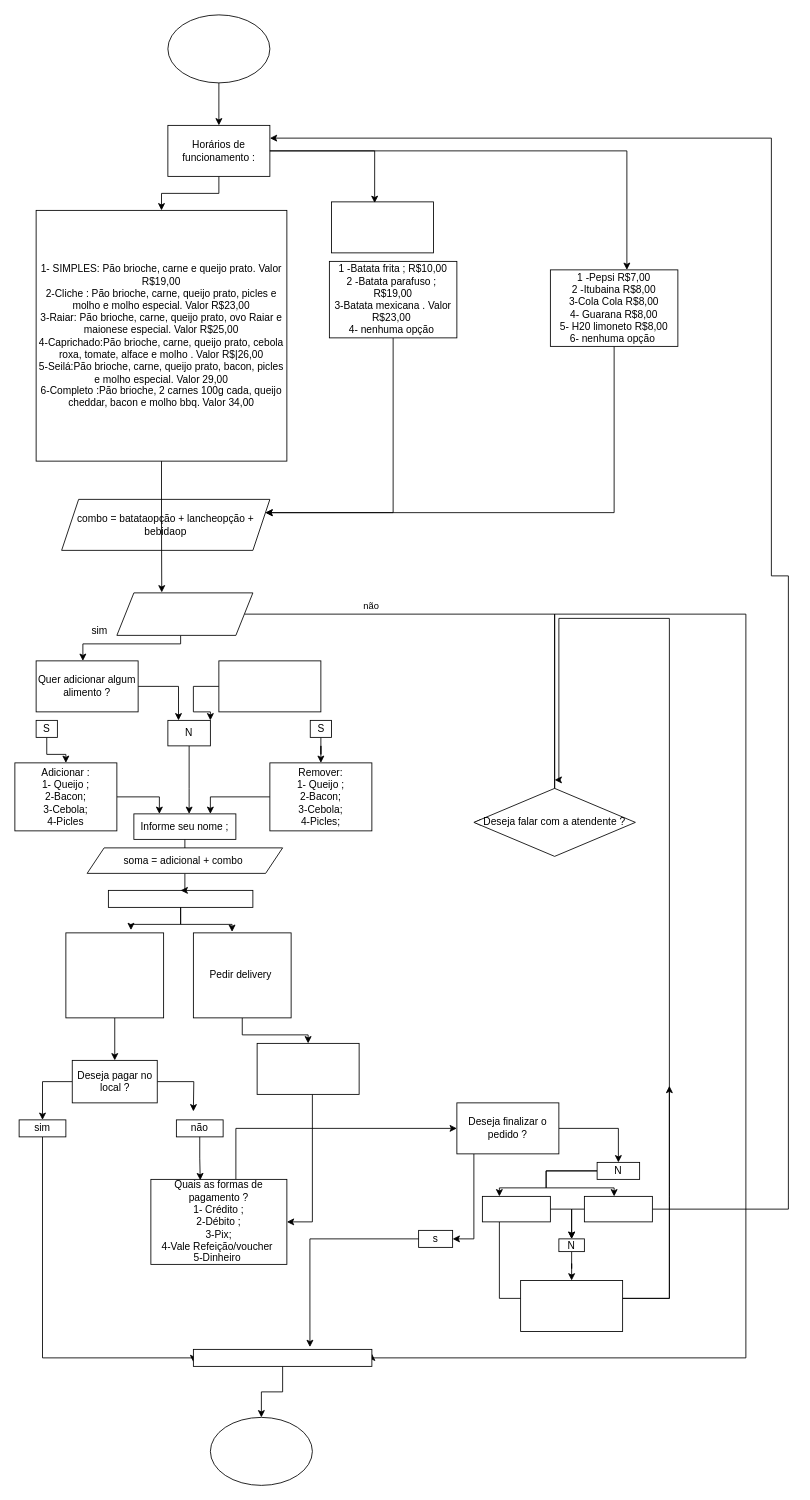
Some shapes in this 810 by 1500 pixel diagram are drawn without their labels. The shapes that lost their labels are listed below. From the top down, each one's centre as x and y in pixels, then its label:
At [218,48]: "O usuário envia uma mensagem".
At [382,227]: "Cada porção de batata contém 500g para 4 pessoas".
At [184,613]: "Deseja adicionar ou remover algum alimento do lanche?".
At [269,686]: "Deseja remover algum alimento".
At [180,898]: "O valor total é de %d , soma".
At [114,975]: "Retiirada na loja".
At [307,1068]: "Informe seu endereço , bairro ,número ;".
At [516,1209]: "Falar com a atendente".
At [618,1209]: "Reiniciar o pedido".
At [571,1306]: "Feedback".
At [282,1357]: "Finalização do pedido".
